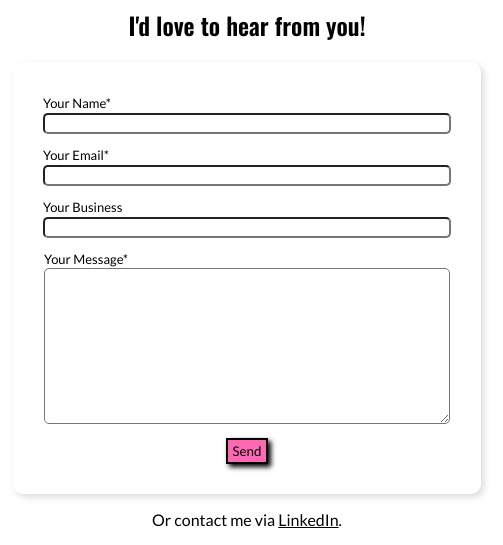
Test case: Contact form › posts the message and thanks the sender
Type "Ada" into the field labelled "Your Name*" at (247, 124), box x1=43 y1=113 x2=451 y2=134
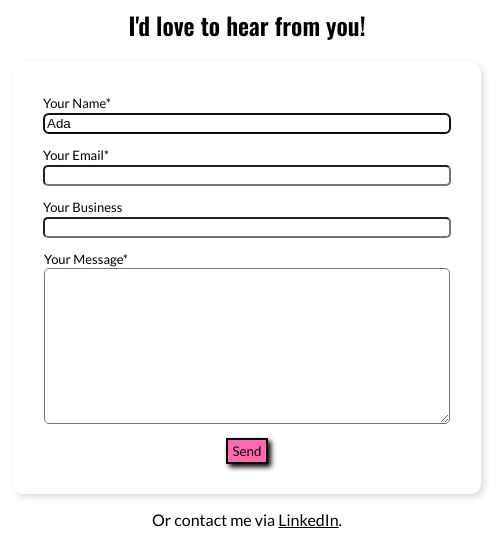
Type "ada@example.com" into the field labelled "Your Email*" at (247, 176), box x1=43 y1=165 x2=451 y2=186
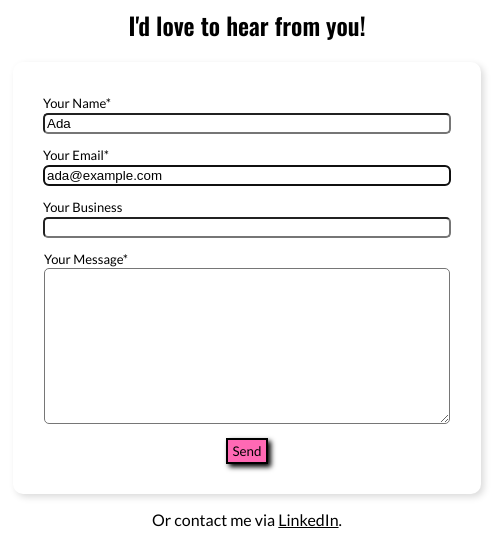
Type "Hello!" into the text box labelled "Your Message*" at (247, 346), box x1=44 y1=268 x2=450 y2=424
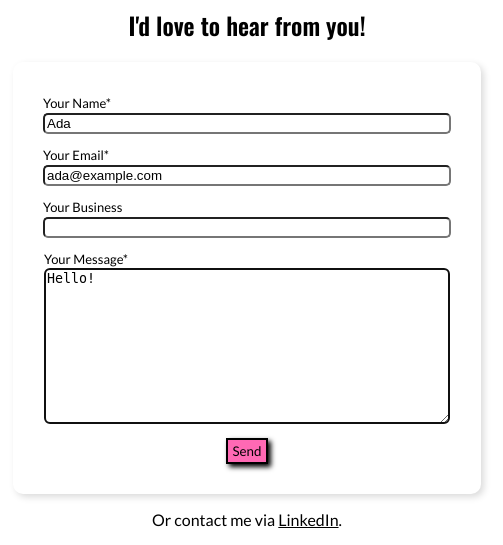
Type "Acme" into the field labelled "Your Business" at (247, 228), box x1=43 y1=217 x2=451 y2=238
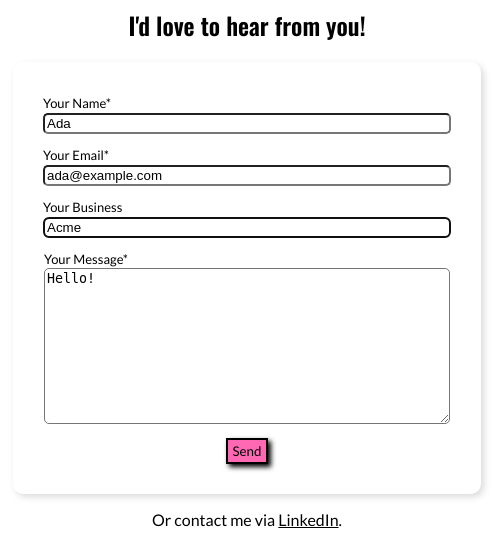
Click the button "Send" at (247, 451), box x1=226 y1=438 x2=268 y2=464
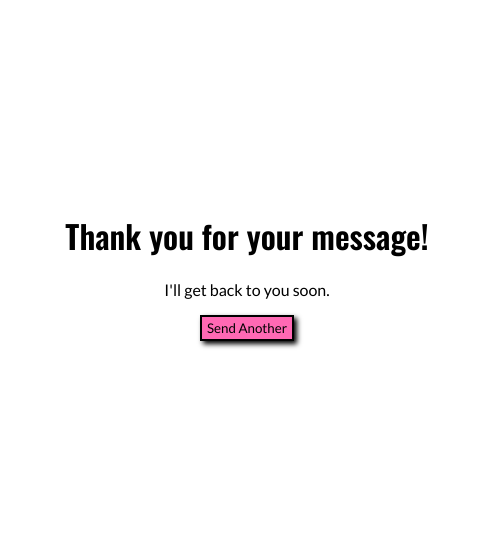
Expected: the heading "Thank you for your message!" is shown, x1=65 y1=212 x2=429 y2=259
Click the button "Send Another" at (247, 328), box x1=200 y1=315 x2=294 y2=341
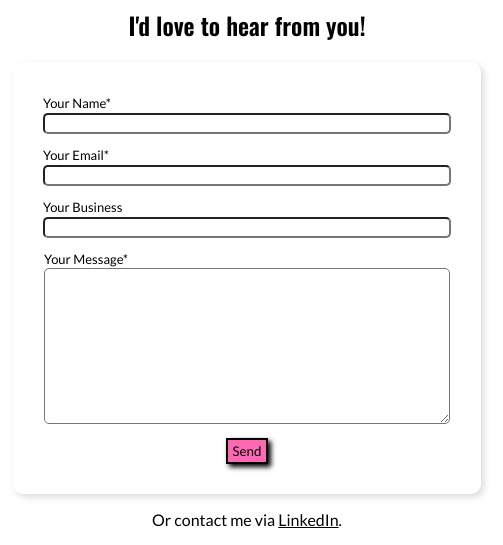
Expected: the field labelled "Your Name*" is shown, x1=43 y1=113 x2=451 y2=134
